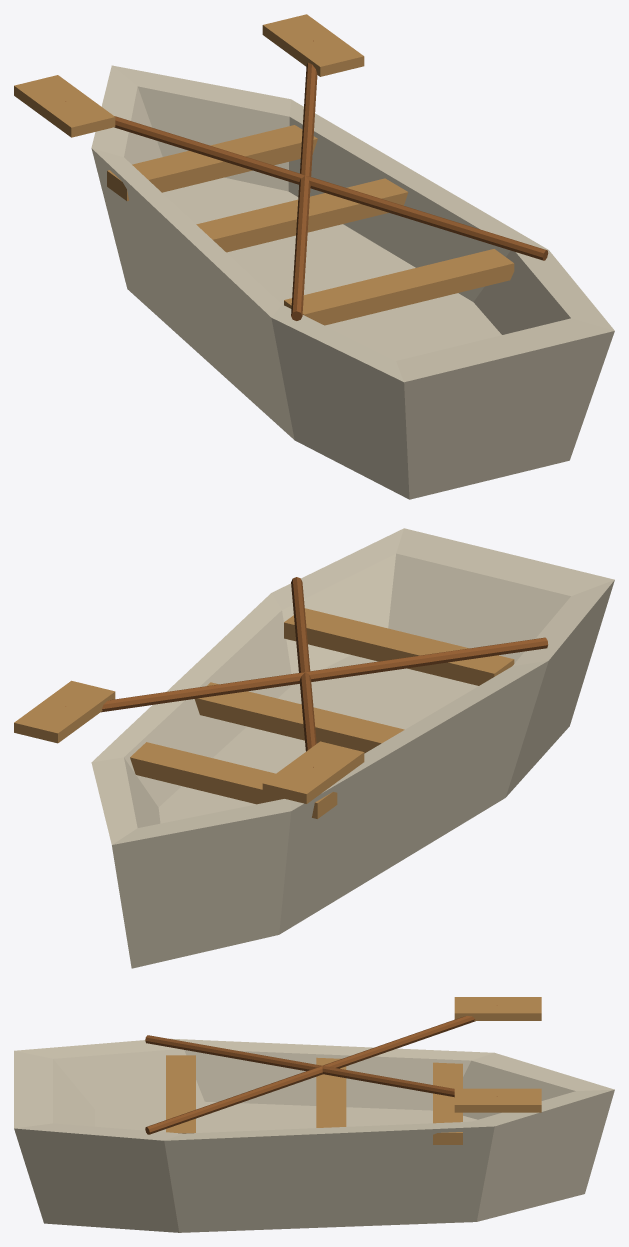
File: rowboat.glb
3 views of the same model, one above another, from view 1: azimuth 30°, elevation 25°; view 2: azimuth 150°, elevation 25°; view 3: azimuth 270°, elevation 25° (orthographic). The views are drawn at different scales.
Visible parts, largest first — view 1: rowboat_pc; view 2: rowboat_pc; view 3: rowboat_pc.
Part boxes in pixels (x1,y1,x2,y2): rowboat_pc: (14, 14, 614, 499); rowboat_pc: (14, 528, 614, 968); rowboat_pc: (14, 997, 614, 1232).
Size of the model in its own units: 1.53 by 0.9459 by 3.6.
